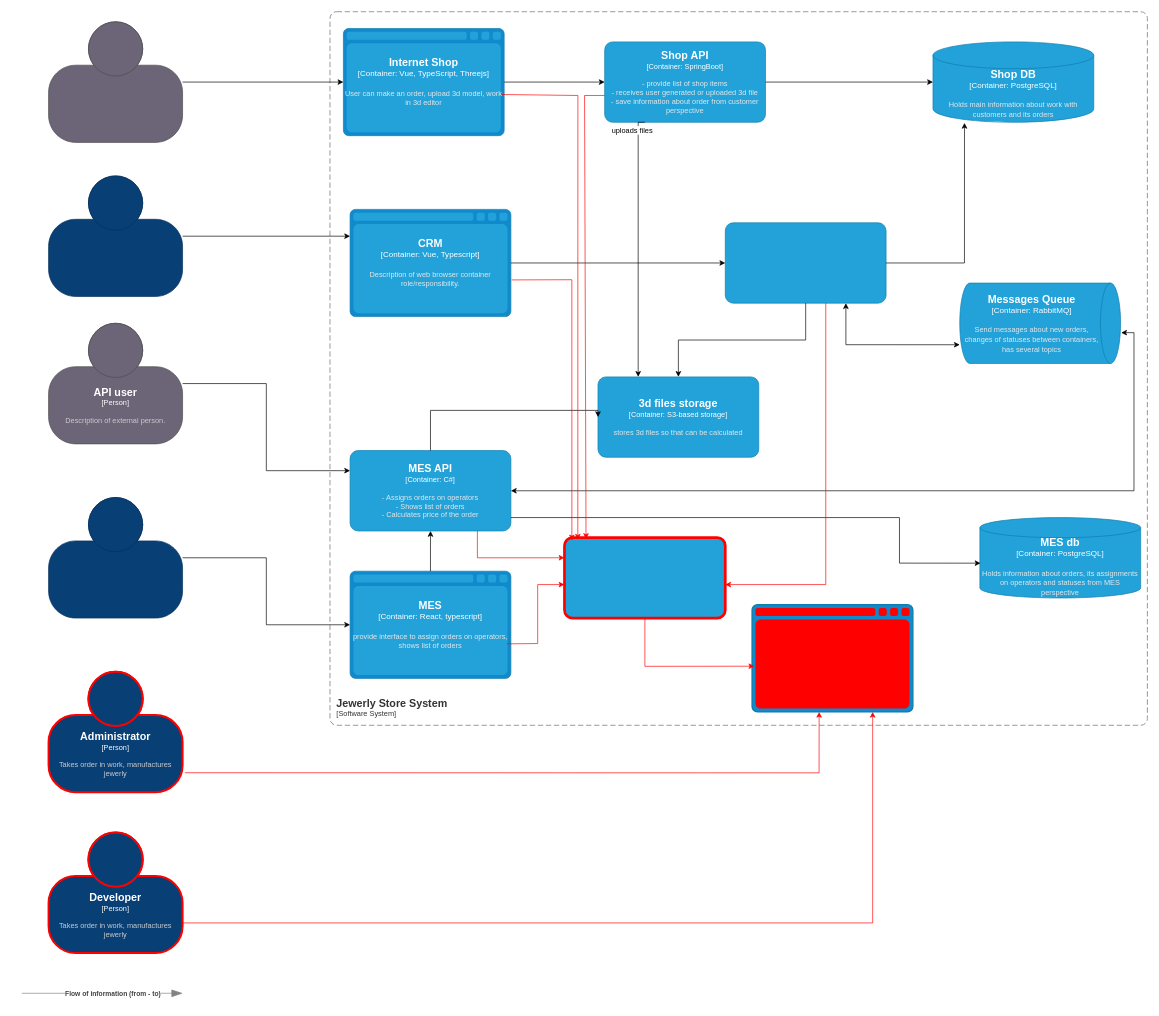
Image size: 1159x1016. Some labels were removed from this diagram. Here are the shapes that lost their labels. From the top down, the centre of each, then its label:
At point (115, 81): "Customer [Person] Description of external person.".
At point (115, 235): "Seller [Person] Operates with order, confirms manufacturing for the user".
At point (805, 262): "CRM API [Container: SpringBoot] Description of container role/responsibility.".
At point (115, 557): "Operator [Person] Takes order in work, manufactures jewerly".
At point (644, 577): "Jaeger [Container: Jaeger] Collect traces".
At point (832, 658): "Jaeger UI [Container: Jaeger] Visualisation traces".
